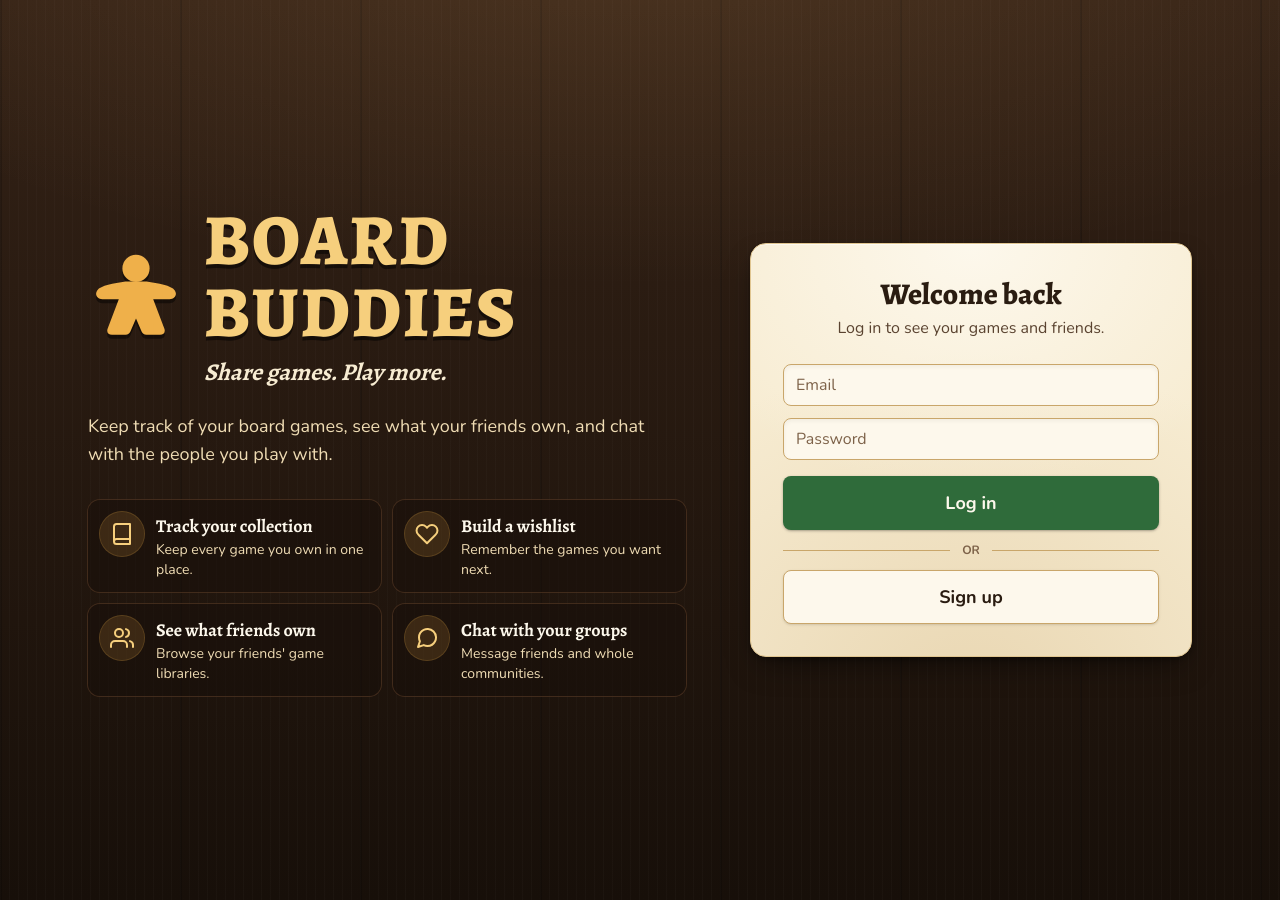
Scenario: Logging in › shows an error and stays on the login form when the password is wrong
The image size is (1280, 900).
In the field labelled "Email": (971, 385) [783,364,1159,406], type "bob@example.com"
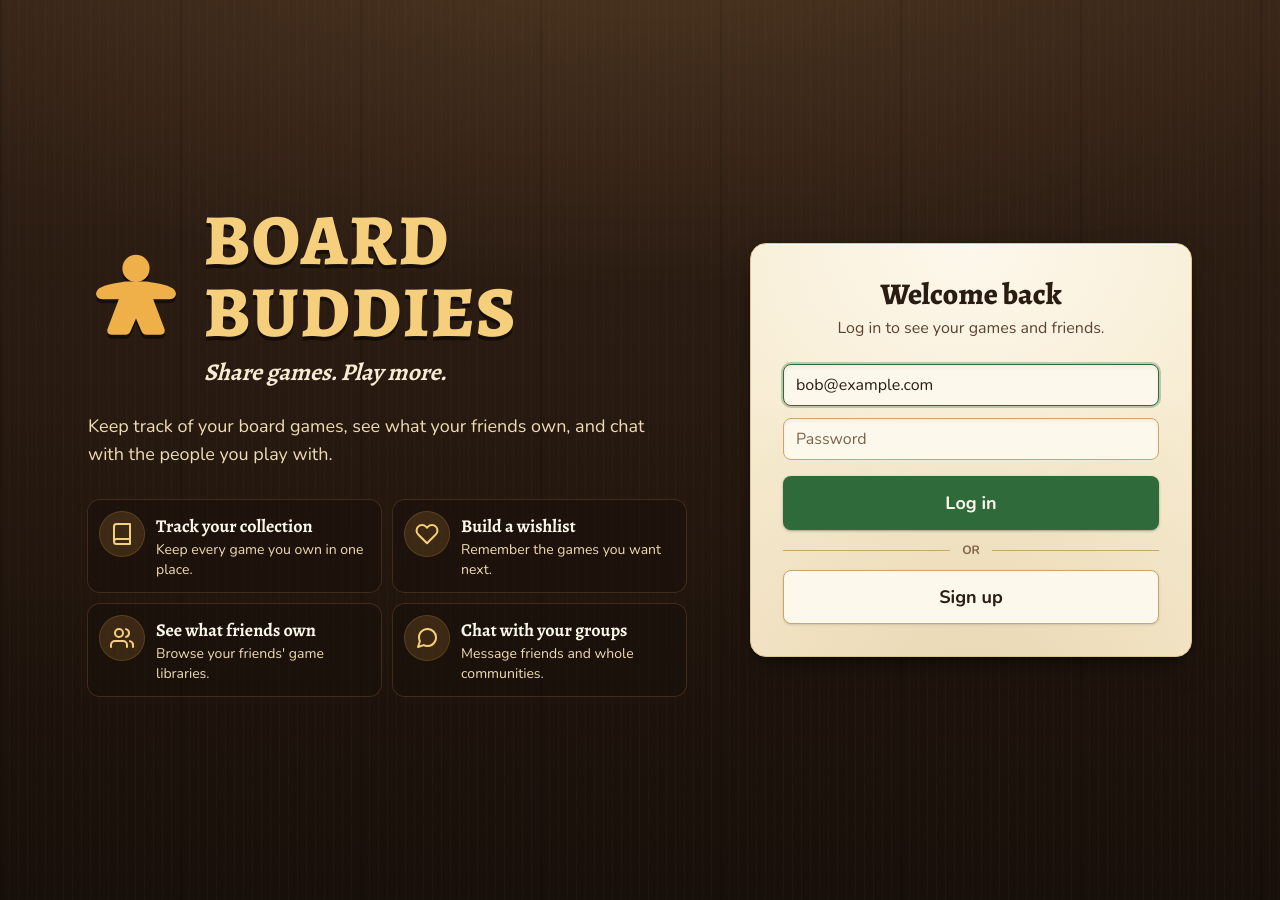
In the password field labelled "Password": (971, 439) [783,418,1159,460], type "wrong-password"
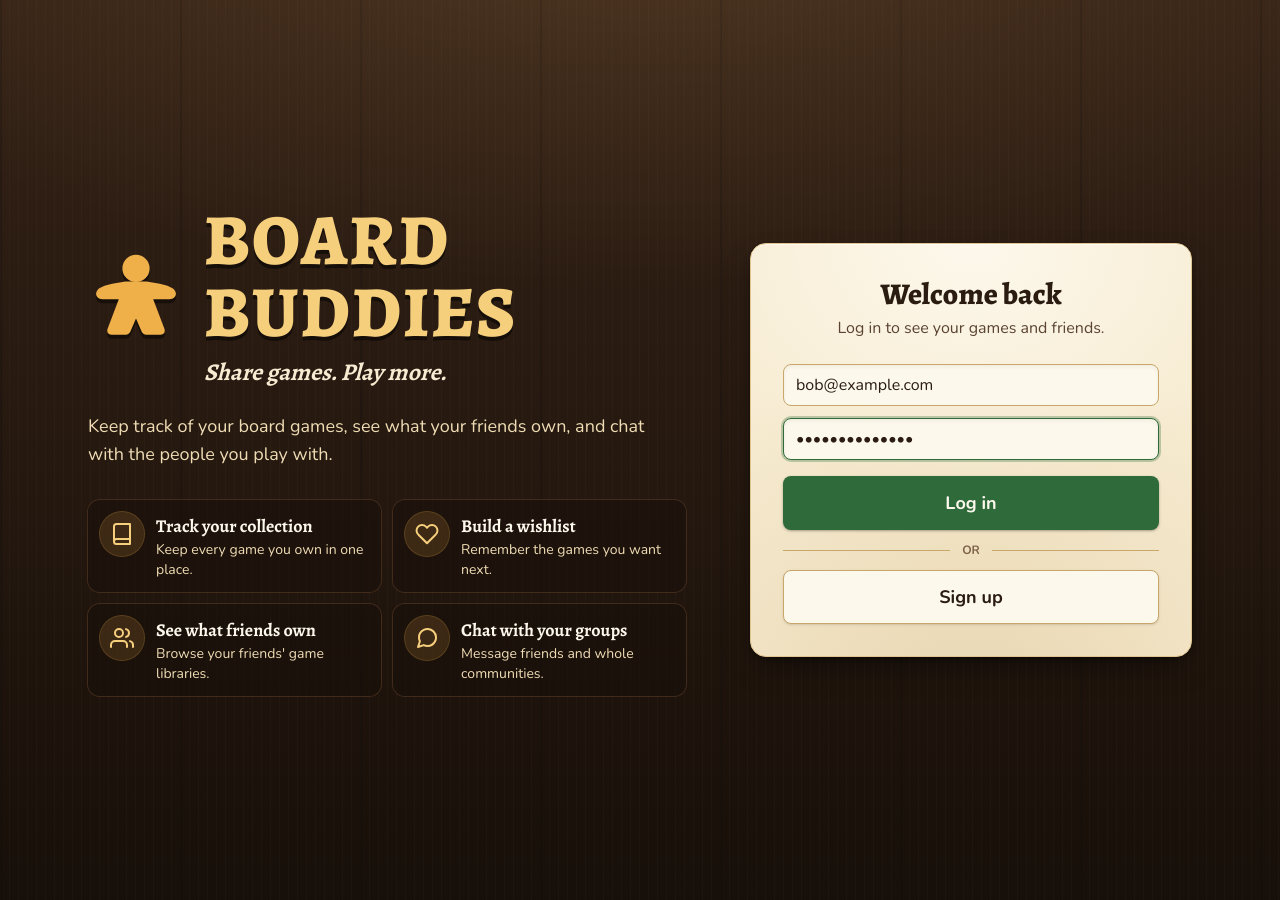
Click the button "Log in": (971, 503) [783,476,1159,530]
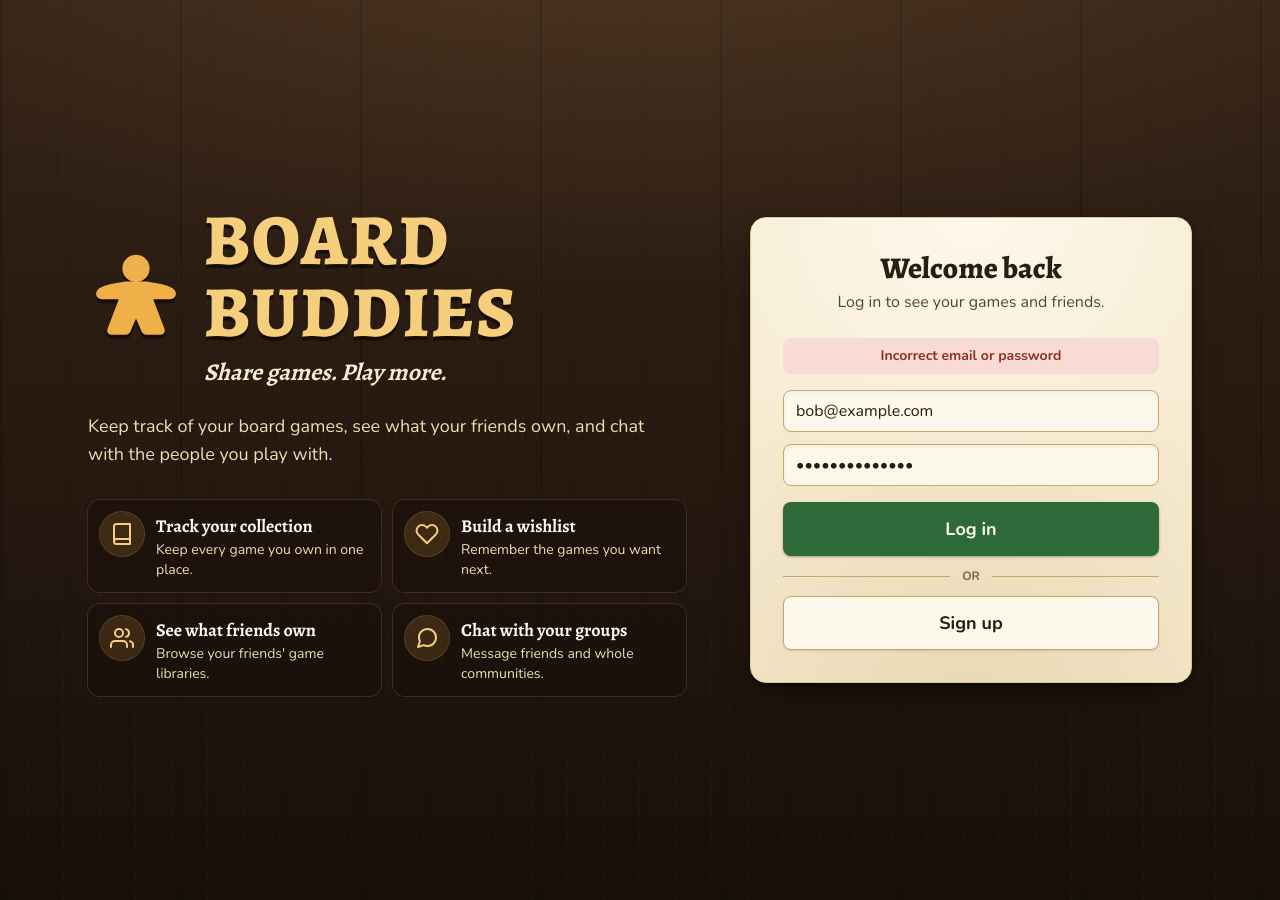
Expected: the text "Incorrect email or password" is shown, [783,338,1159,374]
